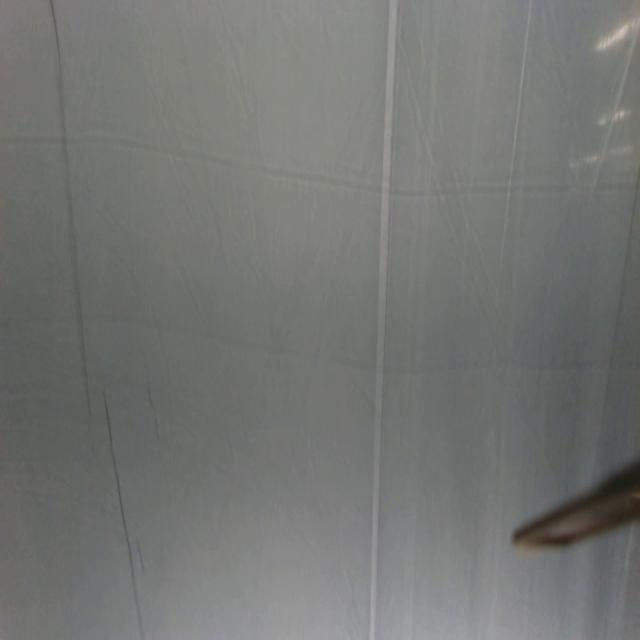color bleeding: (0, 132, 640, 383)
crease: (49, 2, 93, 416), (371, 0, 399, 639), (102, 394, 146, 638), (498, 0, 534, 288), (589, 26, 640, 189)
